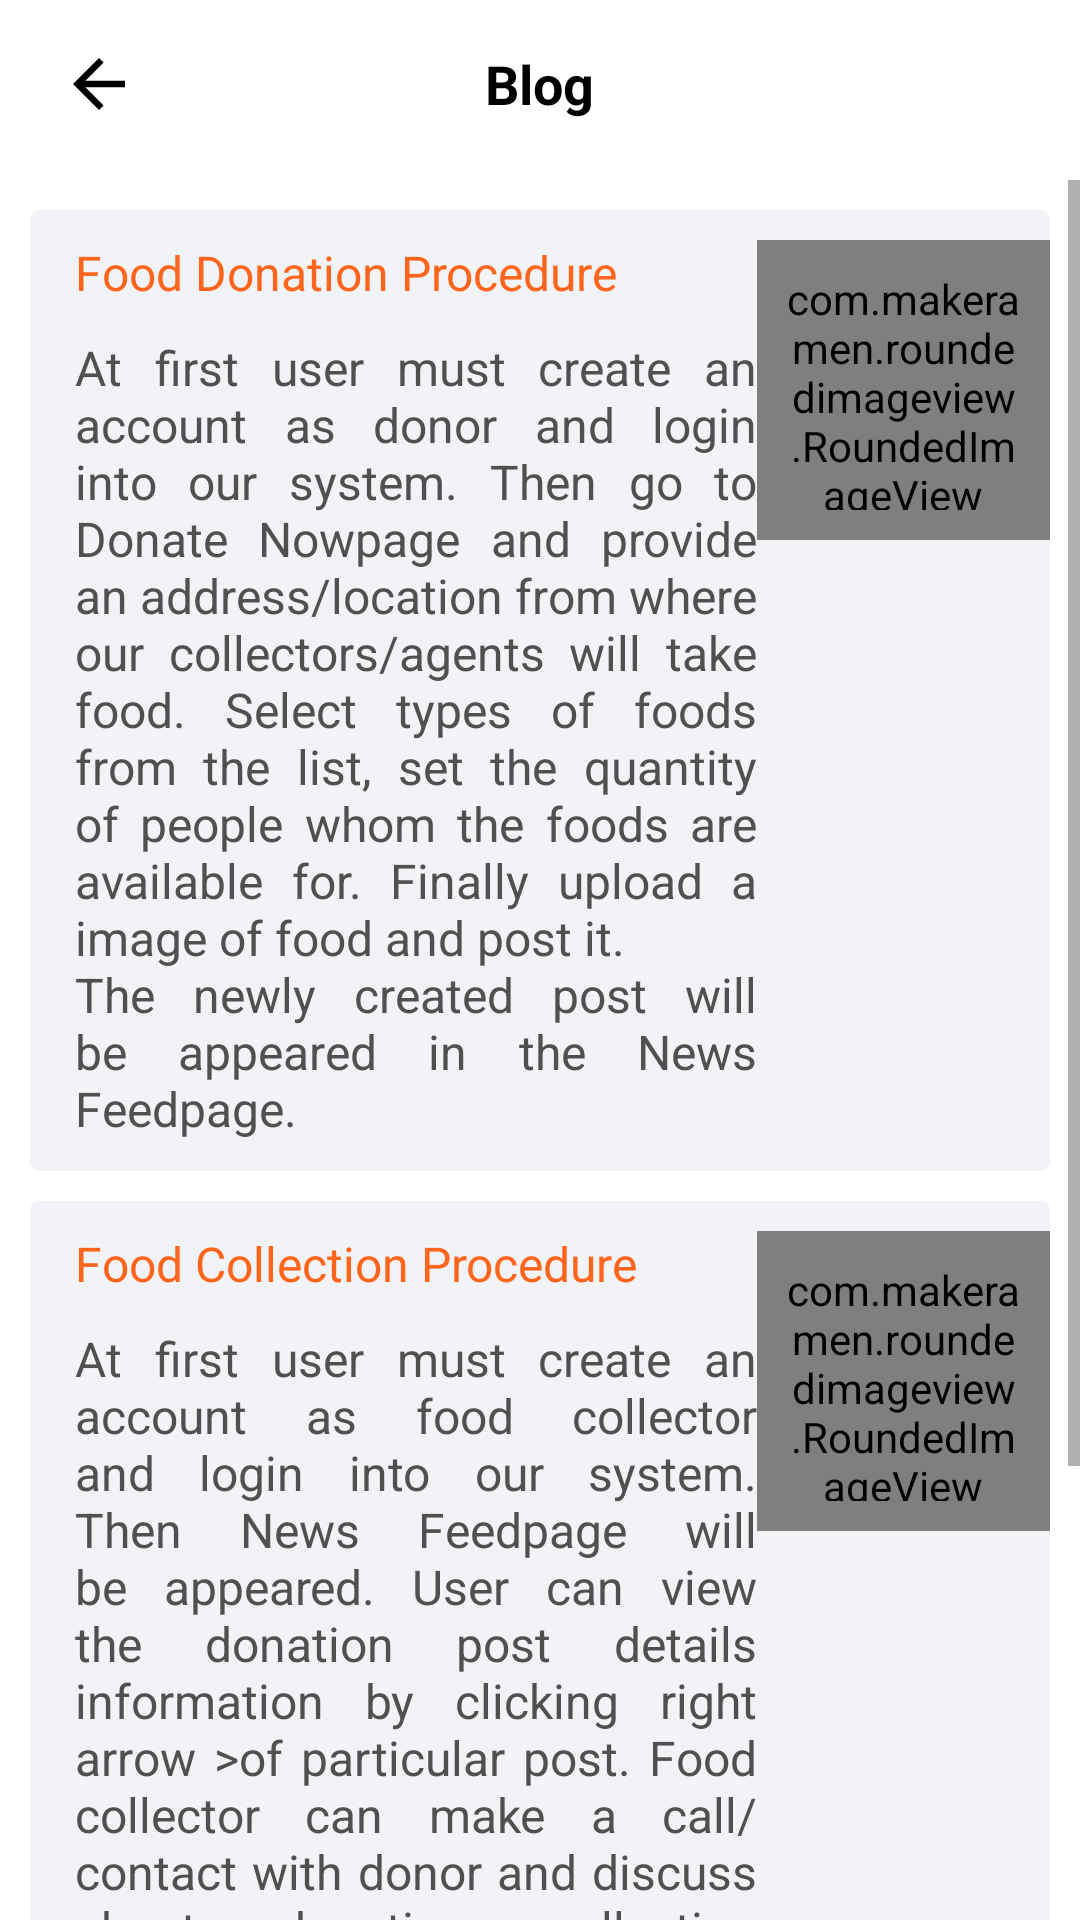

Screen size 1080*1920. Icon name, then its center in pixels as (x,y):
arrow back: (99,84)
